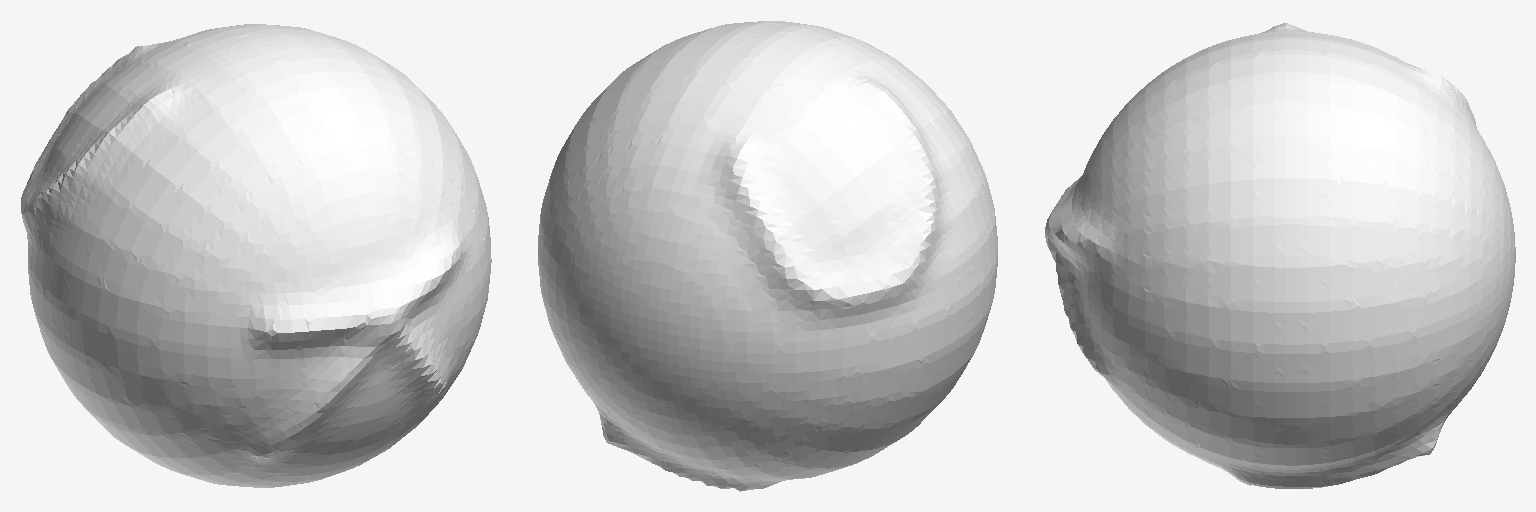
The robot description file, URDF, robot "urdf_robot":
<?xml version="1.0" ?>
<robot name="urdf_robot">
  <link name="base_link">
    <contact>
      <rolling_friction value="0.001"/>
      <spinning_friction value="0.001"/>
    </contact>
    <inertial>
      <origin rpy="0 0 0" xyz="0 0 0"/>
       <mass value=".1"/>
       <inertia ixx="1" ixy="0" ixz="0" iyy="1" iyz="0" izz="1"/>
    </inertial>
    <visual>
      <origin rpy="0 0 0" xyz="0 0 0"/>
      <geometry>
        <mesh filename="textured_sphere_smooth_kdc.obj" scale="0.03 0.03 0.03"/>
        <!-- <mesh filename="textured_sphere_smooth.obj" scale="0.03 0.03 1"/>       -->
      </geometry>
      <material name="white">
        <color rgba="1 1 1 1"/>
      </material>
    </visual>
    <collision>
      <origin rpy="0 0 0" xyz="0 0 0"/>
      <geometry>
	 <sphere radius="0.03"/>
      </geometry>
    </collision>
  </link>
</robot>

--- Facts derived from the render (not from the file) ---
3 views of the same robot in one strip: view 1: azimuth 30°, elevation 25°; view 2: azimuth 150°, elevation 25°; view 3: azimuth 270°, elevation 25° (orthographic).
Model urdf_robot with 1 links and 0 joints (none), rooted at base_link, posed every joint at zero.
Links seen in each view (by area): view 1: base_link; view 2: base_link; view 3: base_link.
Link boxes in pixels (<box>): base_link: <box>21,24,491,487</box>; base_link: <box>538,21,997,491</box>; base_link: <box>1045,23,1515,488</box>.
Size in the robot's own frame: 0.0598 by 0.063 by 0.0613 metres.
Meshes: 1 distinct files referenced, 1 mesh visuals loaded (1 OBJ).